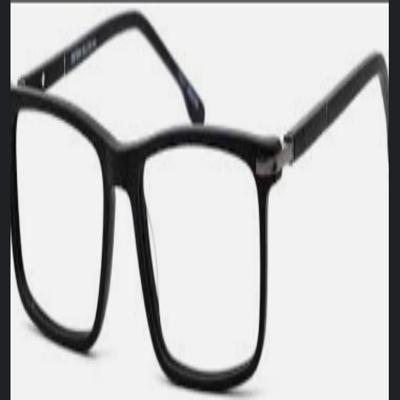glasses: (12, 11, 390, 392)
